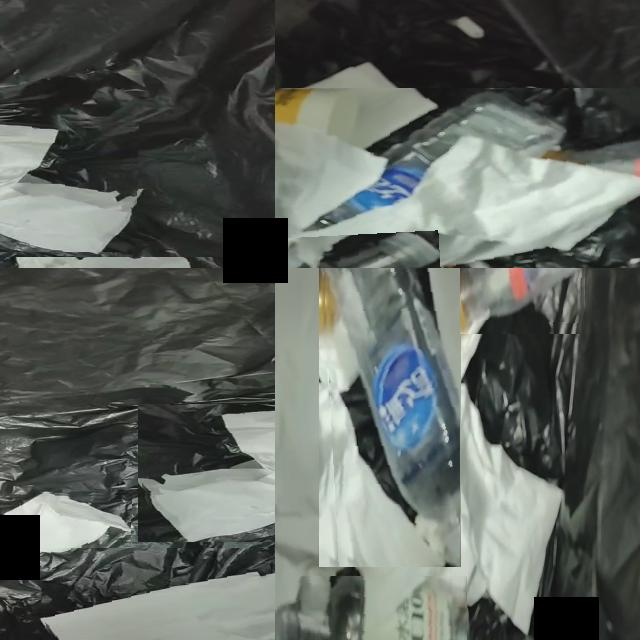bottle: (327, 268, 460, 567), (309, 112, 562, 238), (275, 576, 467, 640), (449, 268, 582, 334), (555, 169, 640, 207)
dixie_cup: (275, 97, 362, 153)
paper: (356, 385, 563, 634), (275, 128, 640, 268), (275, 268, 355, 613), (0, 124, 138, 252), (141, 411, 275, 542), (286, 62, 437, 162), (45, 575, 275, 640), (411, 269, 493, 392), (4, 493, 132, 554)
